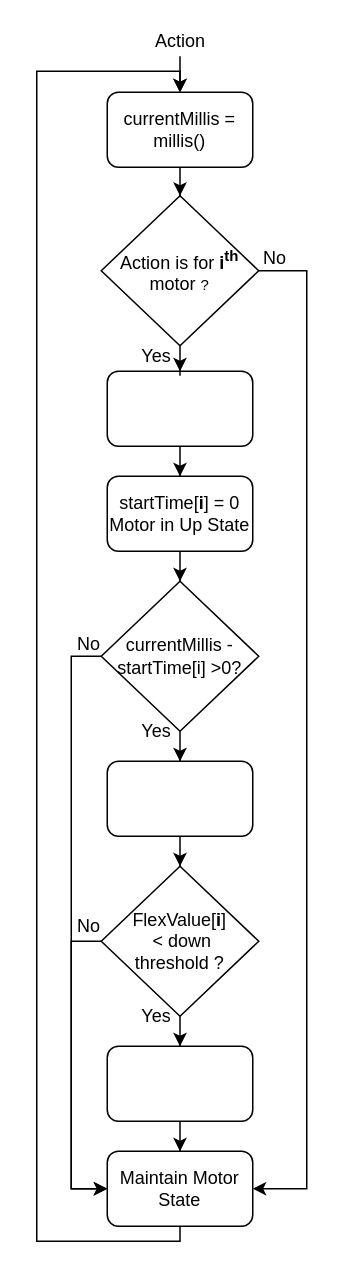
This 345x1280 diagram has some shape labels left out. Each missing label, with the centre of its shape:
"Motor in Down State" goes at [179,798].
"Motor in Stop State" goes at [179,1083].
"Select Motor i from Array" goes at [179,408].
